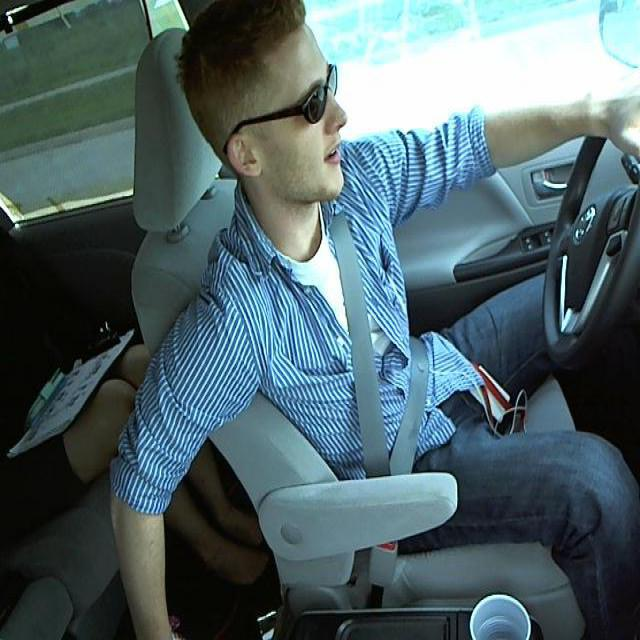seatbelt: (319, 244, 457, 476)
